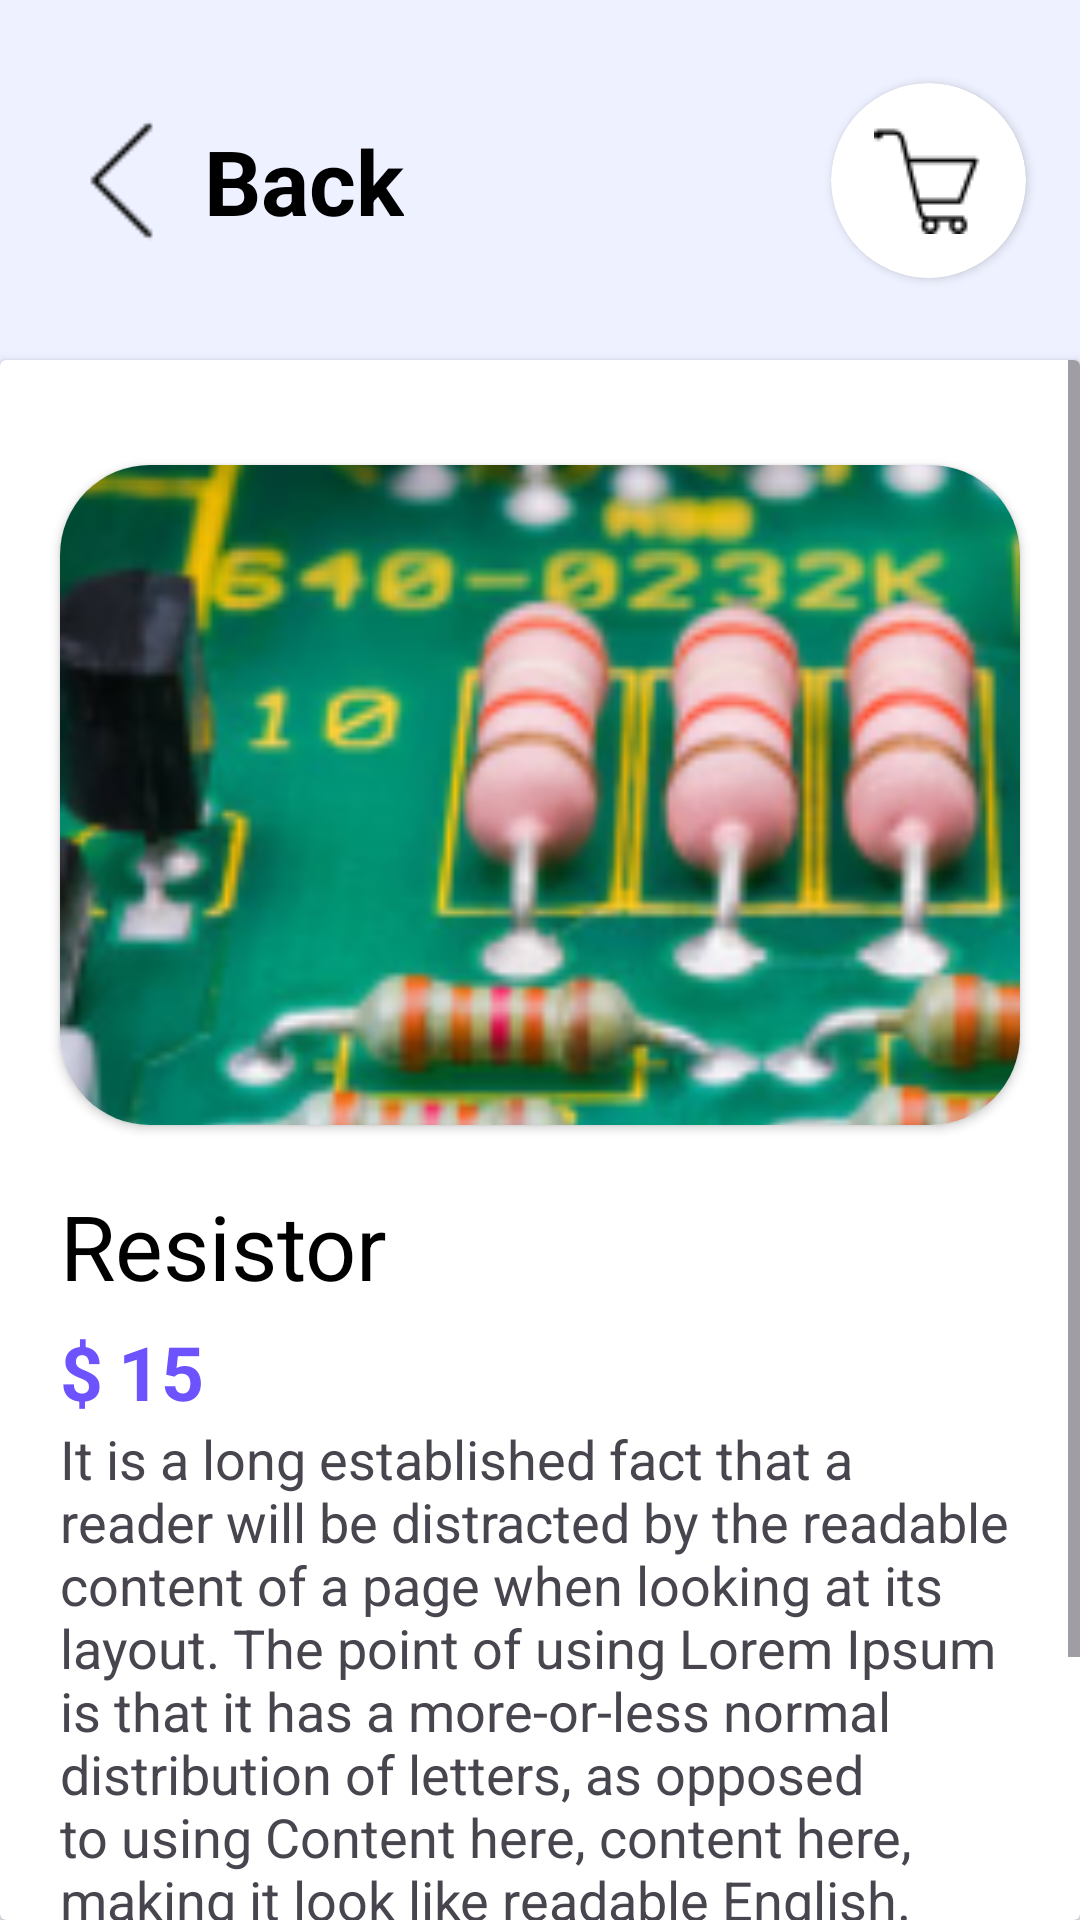

Locate icon controls on the screen. Image size 1080px×1920px, boxes as rect(x1, y1, x2, y2).
shopping cart: rect(874, 128, 980, 234)
